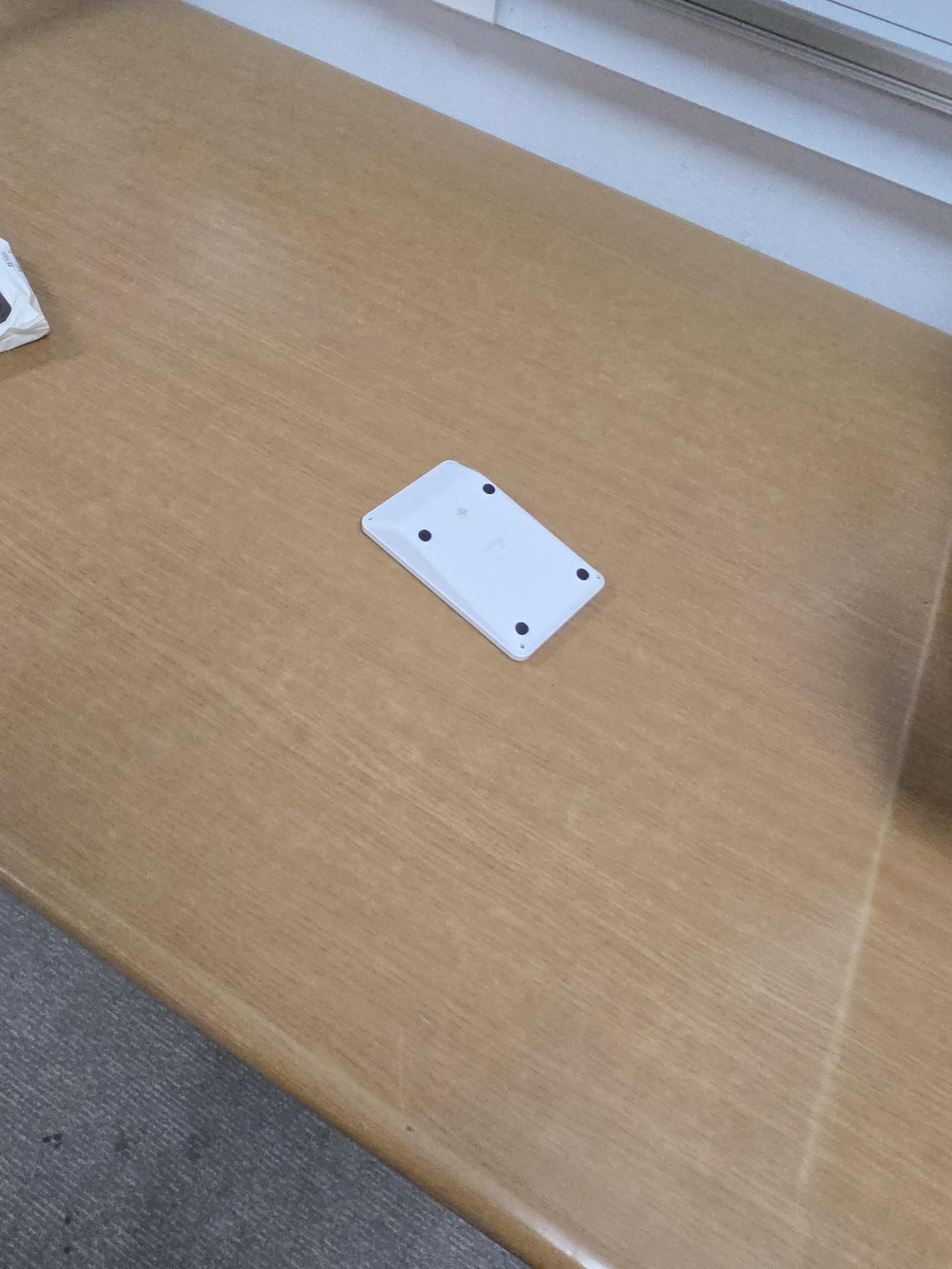calculator: (361, 458, 607, 662)
tissue: (0, 237, 50, 353)
